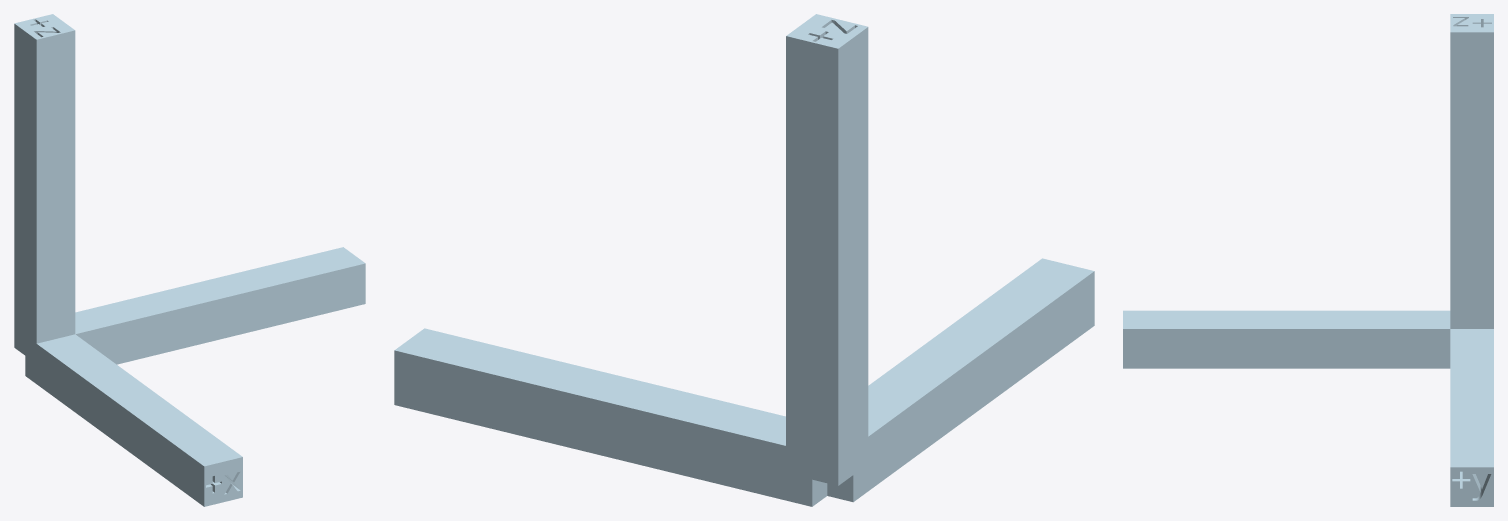
File: _objects:YposZpos.glb
3 renders of one model, left to right at view 1: azimuth 30°, elevation 25°; view 2: azimuth 150°, elevation 25°; view 3: azimuth 270°, elevation 25°, orthographic. The views are drawn at different scales.
Visible parts, largest first — view 1: Part 1; view 2: Part 1; view 3: Part 1.
Part boxes in pixels (x1,y1,x2,y2): Part 1: (14, 14, 365, 506); Part 1: (394, 14, 1094, 506); Part 1: (1123, 14, 1493, 506).
Bounding box in the file's own units: 0.0425 × 0.0425 × 0.0425.
